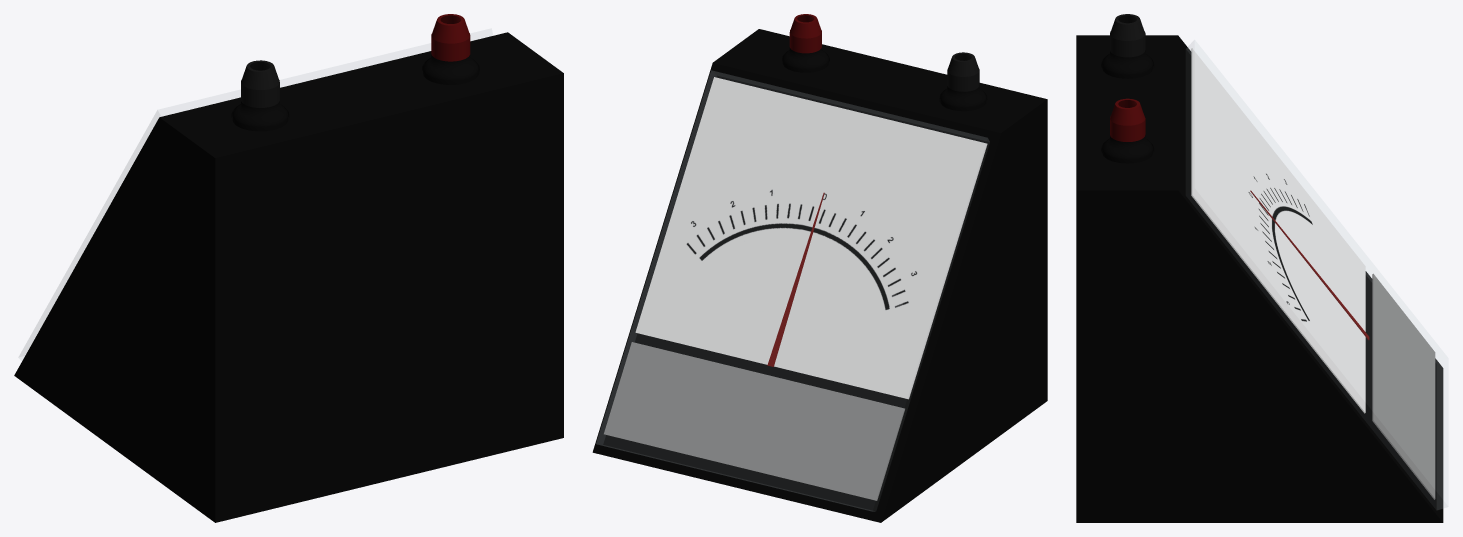
Rendered from GelMeterFinal.fbx.
3 renders of one model, left to right at view 1: azimuth 30°, elevation 25°; view 2: azimuth 150°, elevation 25°; view 3: azimuth 270°, elevation 25°, orthographic. The views are drawn at different scales.
Visible parts, largest first — view 1: Cube, Cube_001, Cylinder_001, Cylinder_003, Cylinder_002, Cylinder; view 2: Cube_002, Cube, Cube_004, Cube_001, Cylinder_003, Cylinder_001, Cylinder_002, Cylinder, Cube_003; view 3: Cube, Cube_002, Cube_004, Cube_001, Cylinder_003, Cylinder_001, Cylinder_002, Cylinder, Cube_003.
Part boxes in pixels (x1,y1,x2,y2): Cube: (14,32,563,522); Cube_001: (19,29,492,360); Cylinder_001: (431,14,470,61); Cylinder_003: (241,60,279,107); Cylinder_002: (231,101,289,131); Cylinder: (422,54,479,84); Cube_002: (635,77,987,399); Cube: (592,29,1047,522); Cube_004: (604,342,904,500); Cube_001: (596,71,989,510); Cylinder_003: (947,52,979,91); Cylinder_001: (789,14,821,53); Cylinder_002: (939,86,987,111); Cylinder: (782,47,829,72); Cube_003: (767,192,824,366); Cube: (1076,35,1443,522); Cube_002: (1191,48,1365,413); Cube_004: (1372,273,1435,499); Cube_001: (1186,40,1447,509); Cylinder_003: (1110,14,1145,57); Cylinder_001: (1110,98,1145,141); Cylinder_002: (1101,50,1154,78); Cylinder: (1101,135,1154,163); Cube_003: (1250,190,1369,340).
Size of the model in its own units: 4.89 by 5.6 by 4.96.
